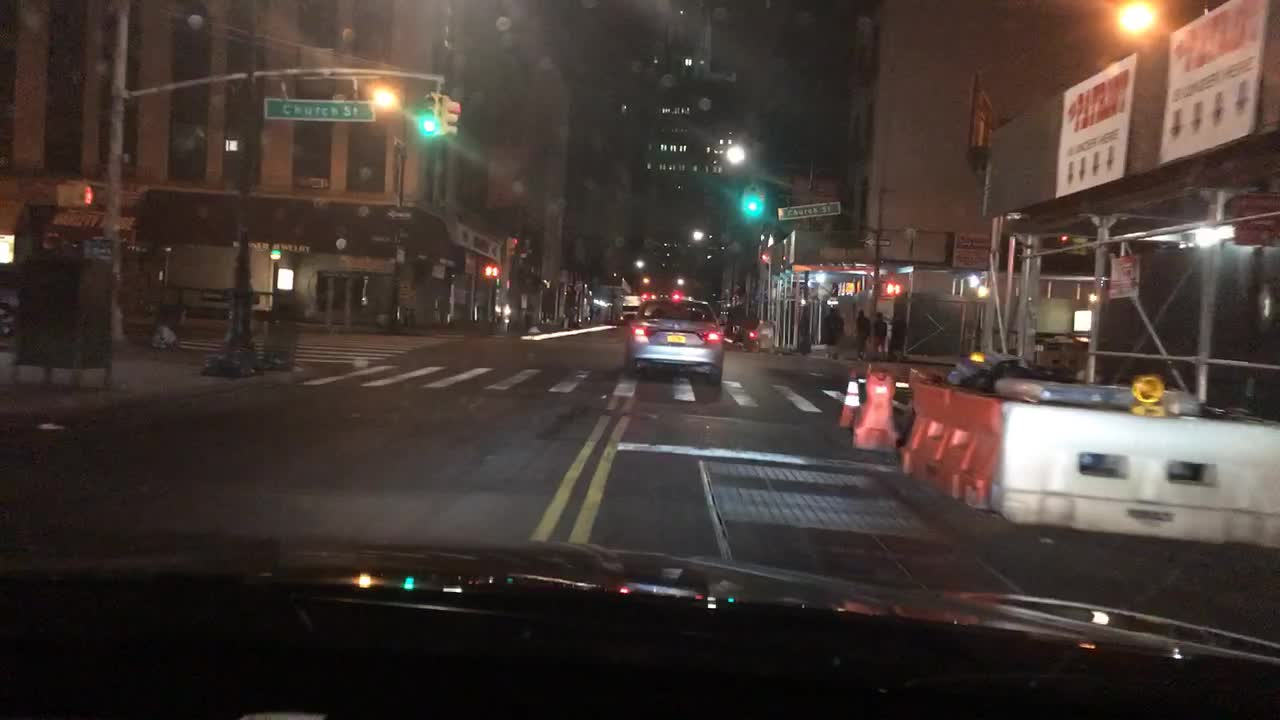car: (622, 296, 727, 386)
motor: (723, 320, 761, 353)
person: (885, 309, 909, 364), (821, 305, 844, 361), (852, 309, 874, 361), (870, 309, 888, 360), (796, 305, 813, 357)
rider: (732, 315, 761, 345)
traffic light: (55, 179, 95, 210), (422, 94, 438, 135), (444, 97, 461, 132), (883, 281, 904, 296), (745, 199, 760, 215), (484, 264, 500, 277), (507, 234, 516, 254), (759, 252, 768, 267), (853, 280, 864, 292), (670, 290, 681, 301), (1060, 234, 1071, 244)
traffic sign: (263, 96, 376, 123), (1105, 252, 1141, 301), (777, 199, 841, 223), (863, 238, 892, 246)
truck: (613, 294, 642, 324)
